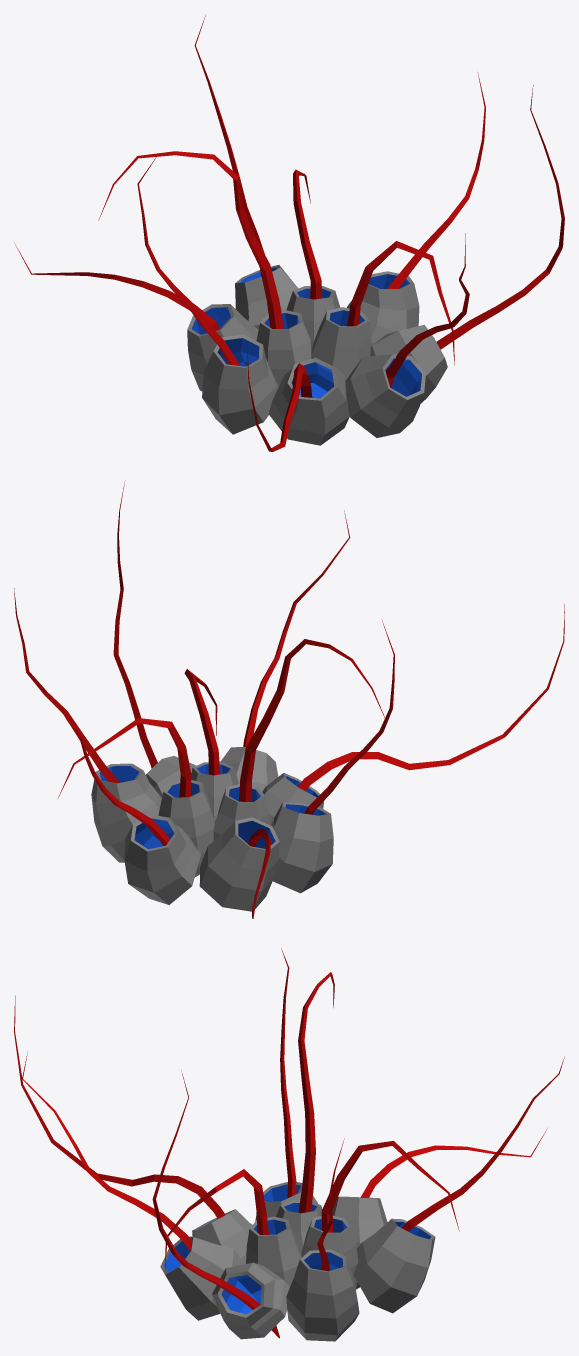
File: FungiFlagel05.fbx
3 views of the same model, one above another, from view 1: azimuth 30°, elevation 25°; view 2: azimuth 150°, elevation 25°; view 3: azimuth 270°, elevation 25° (orthographic). The views are drawn at different scales.
Visible parts, largest first — view 1: FungiFlagel05_LOD0; view 2: FungiFlagel05_LOD0; view 3: FungiFlagel05_LOD0.
Part boxes in pixels (<box>): FungiFlagel05_LOD0: <box>14,15,564,451</box>; FungiFlagel05_LOD0: <box>14,480,564,918</box>; FungiFlagel05_LOD0: <box>14,948,564,1341</box>.
Size of what is drawn, in the model's own units: 204 by 163 by 251.
